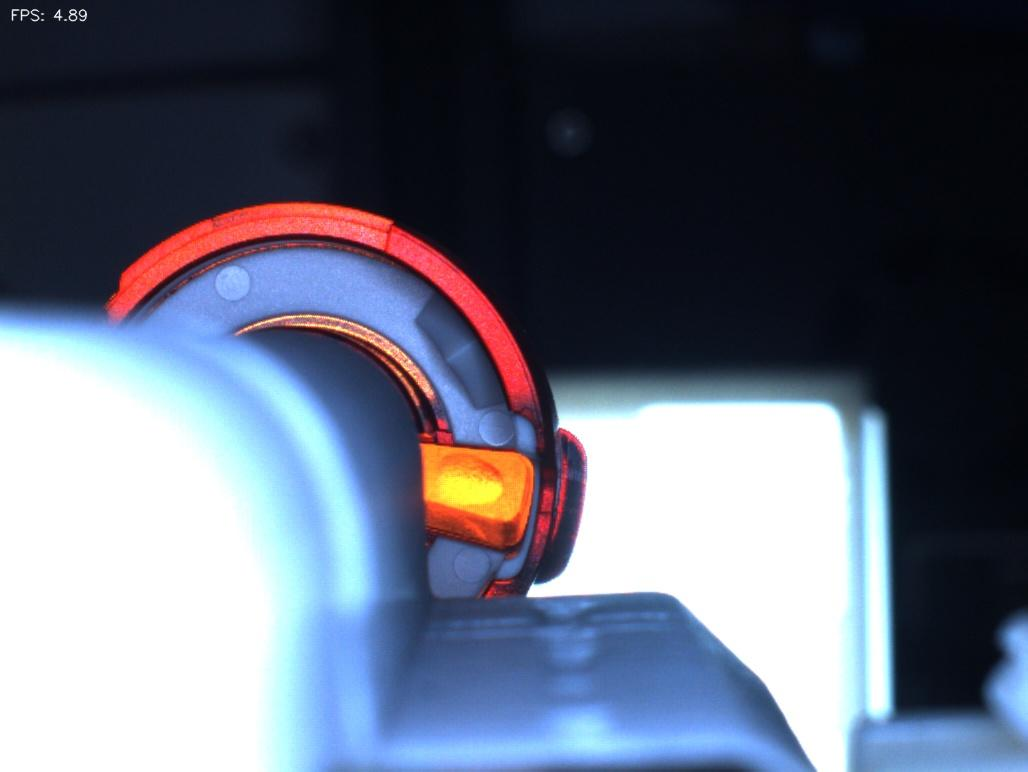Retassure: (427, 447, 520, 511)
